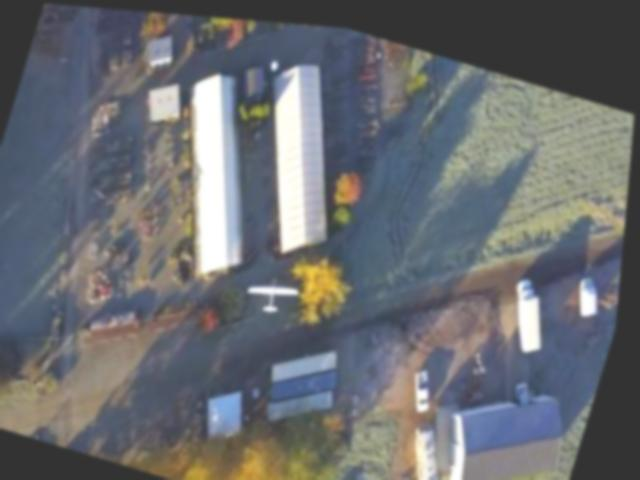uav: (244, 260, 310, 318)
